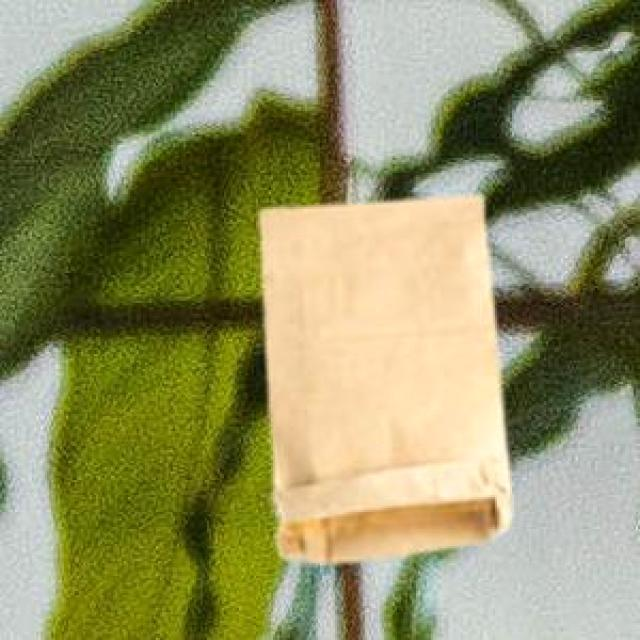Paper_Bag: (257, 193, 507, 560)
